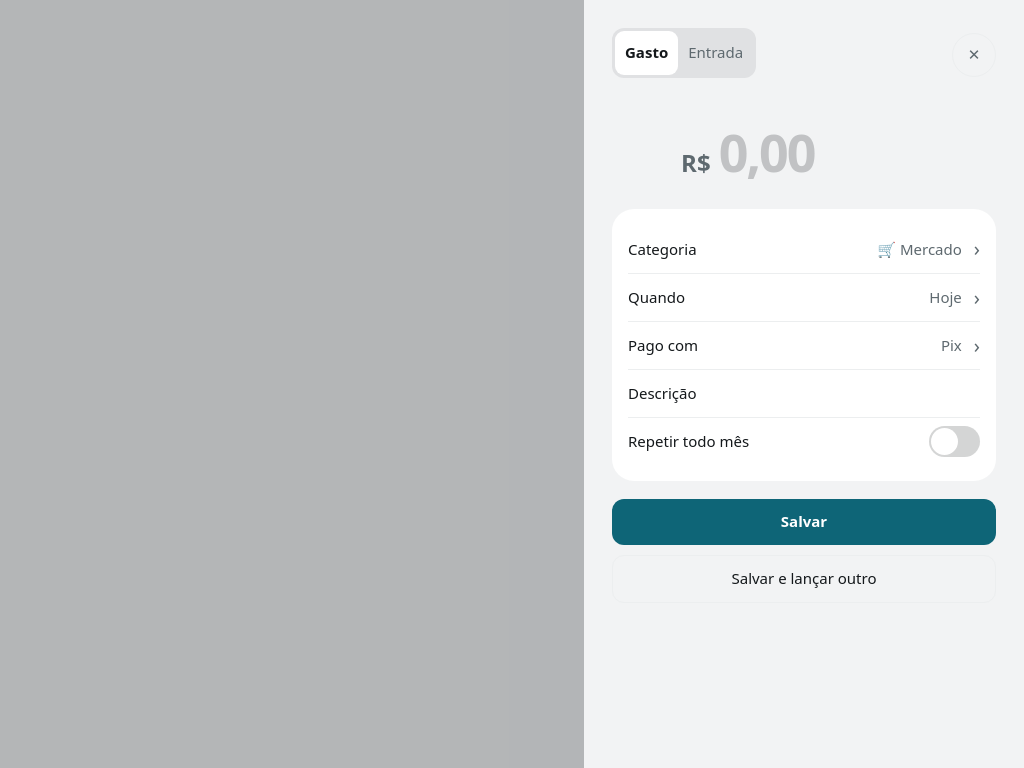
Test case: AddSheet: new transaction › does not submit and shows what is missing when the form is empty
What coordinates should you click on to do the following:
click the button "Salvar"
I would click on:
 (804, 522)
Its box is [612,499,996,545].
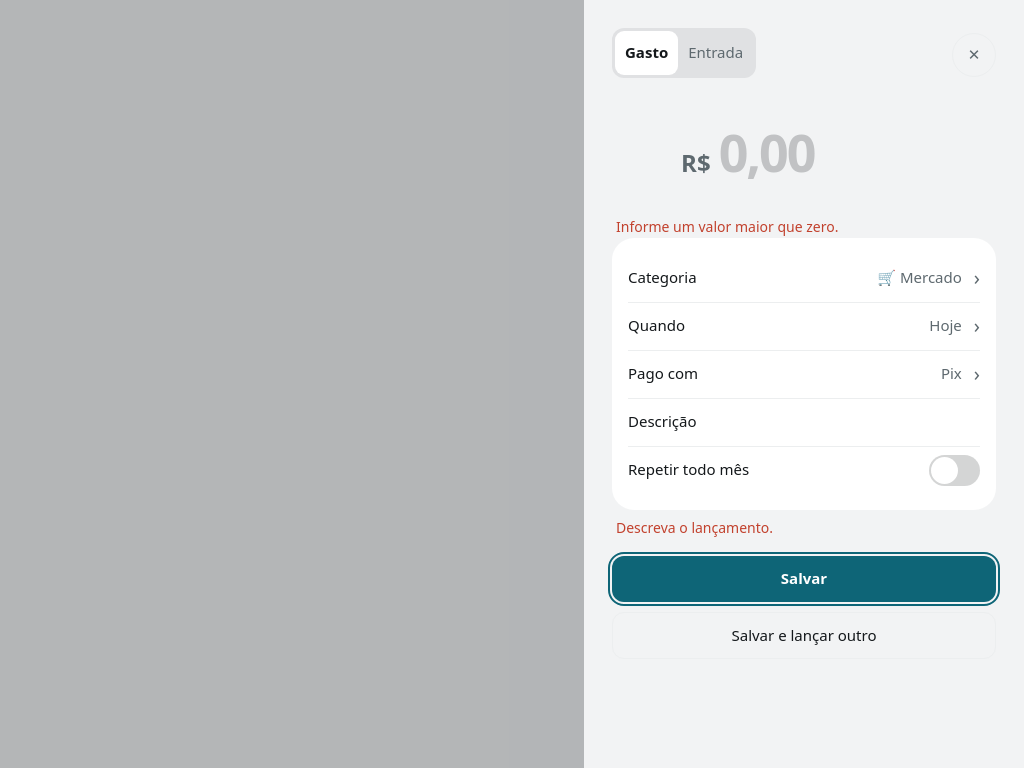
Expected: the text "Informe um valor maior que zero." is shown, [616,217,838,236]
Expected: the text "Descreva o lançamento." is shown, [616,518,773,537]
